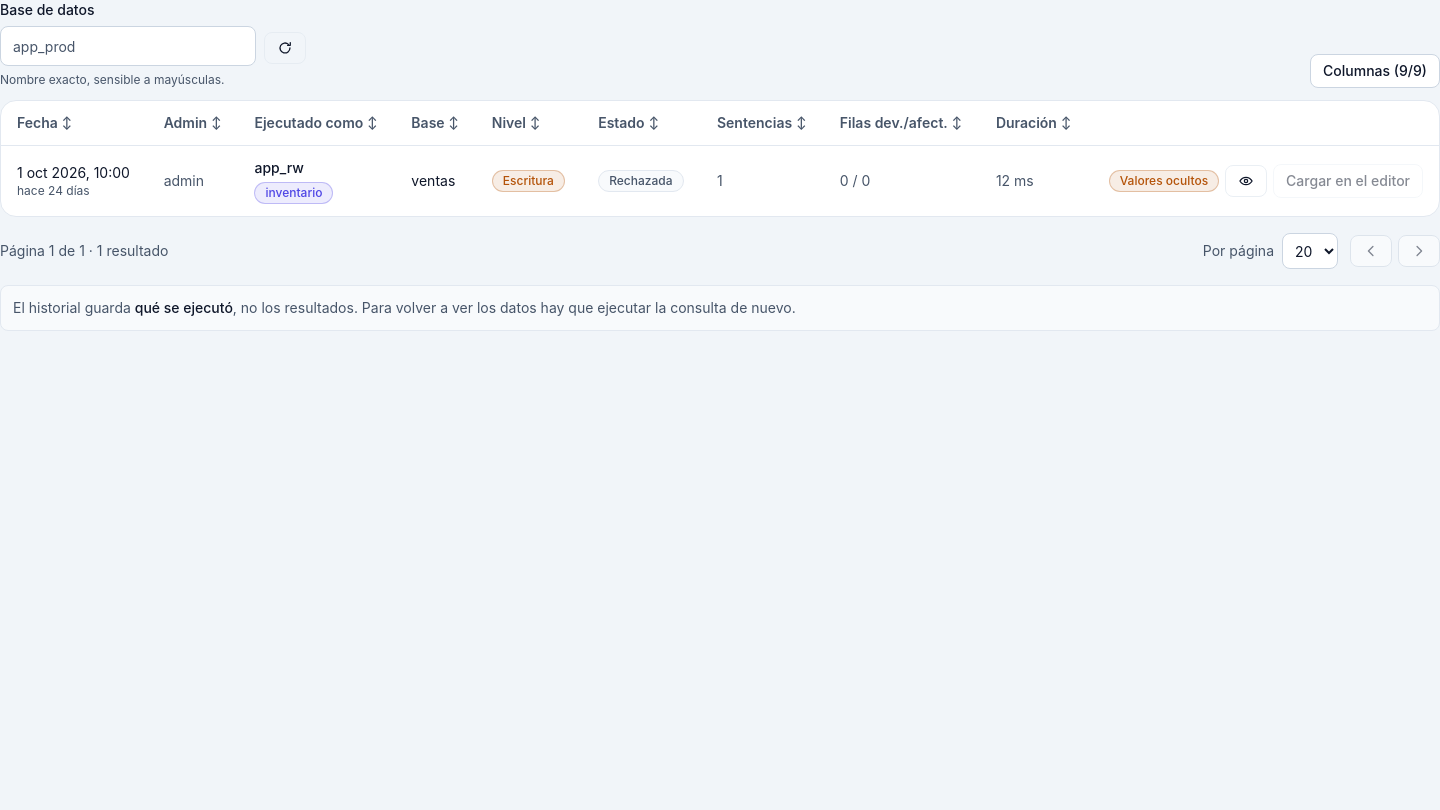
QueryHistoryPanel — SQL enmascarado › detalle enmascarado: explica por qué y no permite cargar en el editor
Click the button named "Ver SQL" at point(1246, 181), box x1=1225 y1=165 x2=1267 y2=197
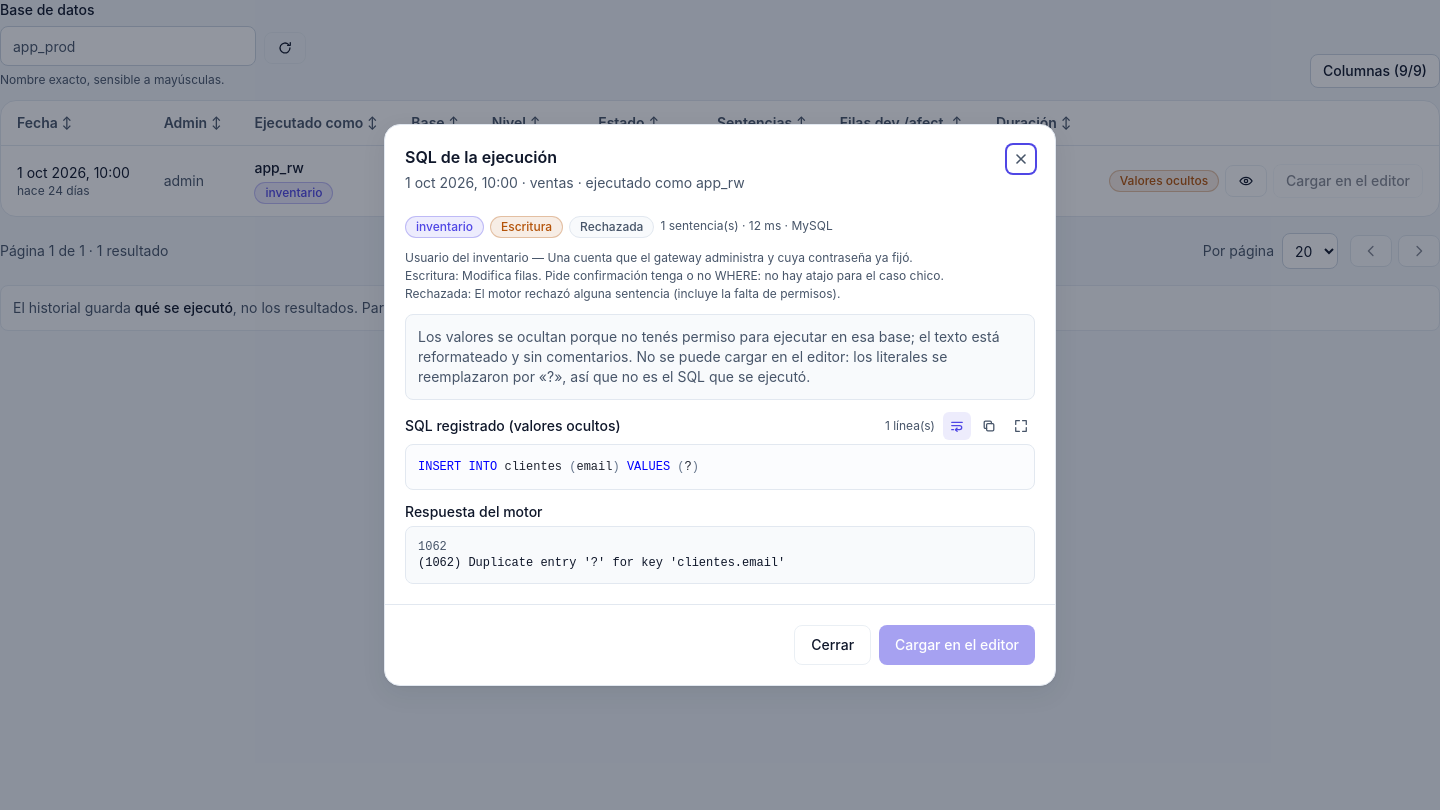
Result: the text "Los valores se ocultan porque no tenés permiso para ejecutar" is shown at x1=418 y1=328 x2=1000 y2=365
Result: the button "Cargar en el editor" is disabled at x1=879 y1=625 x2=1035 y2=665
